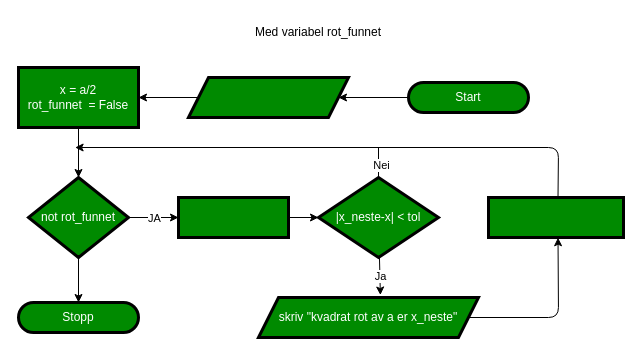
Image size: 642x356. Some labels were removed from this diagram. The centre of each missing label's shape, as x and y in pixels:
les tallet a les tallet tol: [268,97]
rot_funnet = true: [555,217]
x_neste = (x-a/x)/2: [233,217]
